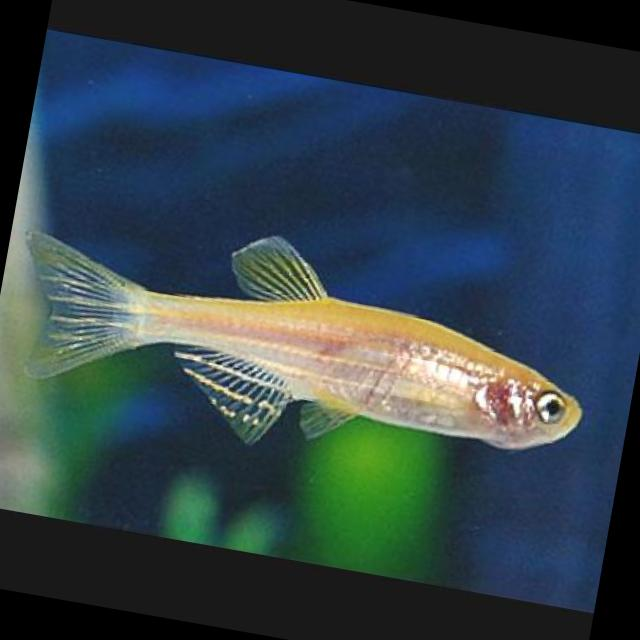ZebraFish: (0, 183, 602, 483)
